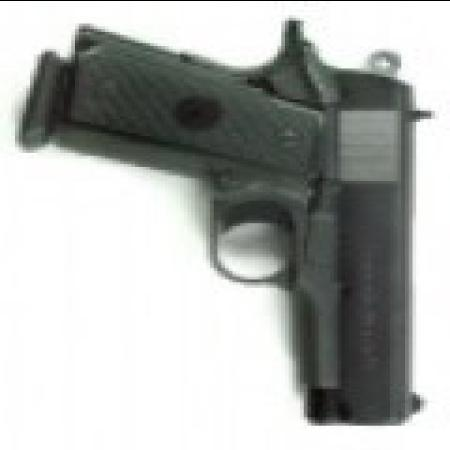Pistol: (19, 16, 435, 430)
